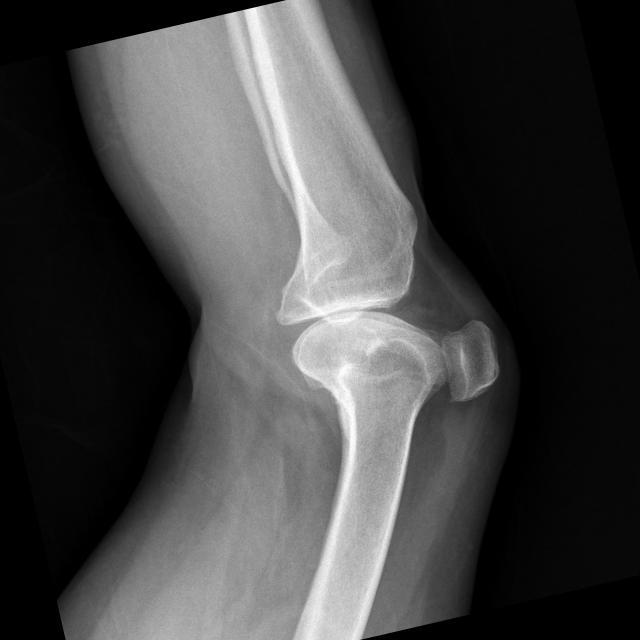Knee: (258, 220, 506, 442)
